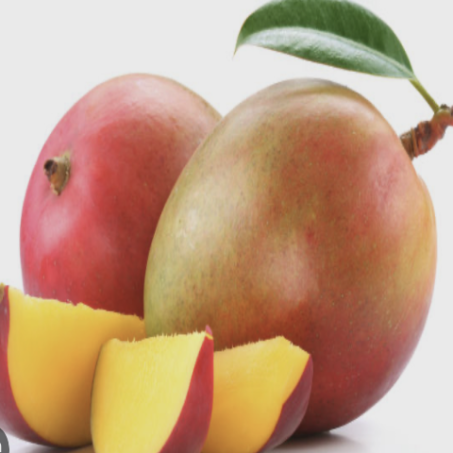mango: (127, 75, 453, 440)
